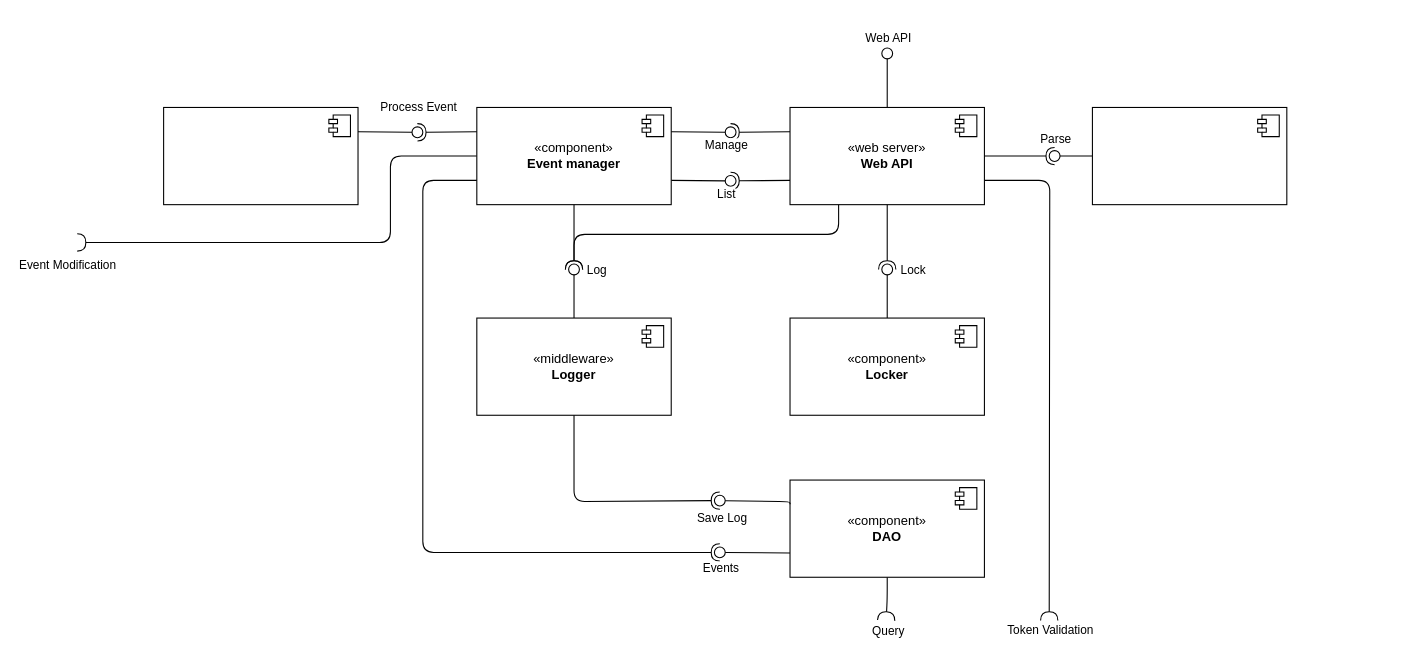
The diagram is 1418 pixels wide and 656 high, and some of its shapes have lost their labels. Here are the shapes that lost their labels. From the top down, the box of each, then its label:
(163, 106, 358, 205): «component» Event processor
(1091, 106, 1287, 205): «middleware » Custom Event Parser
